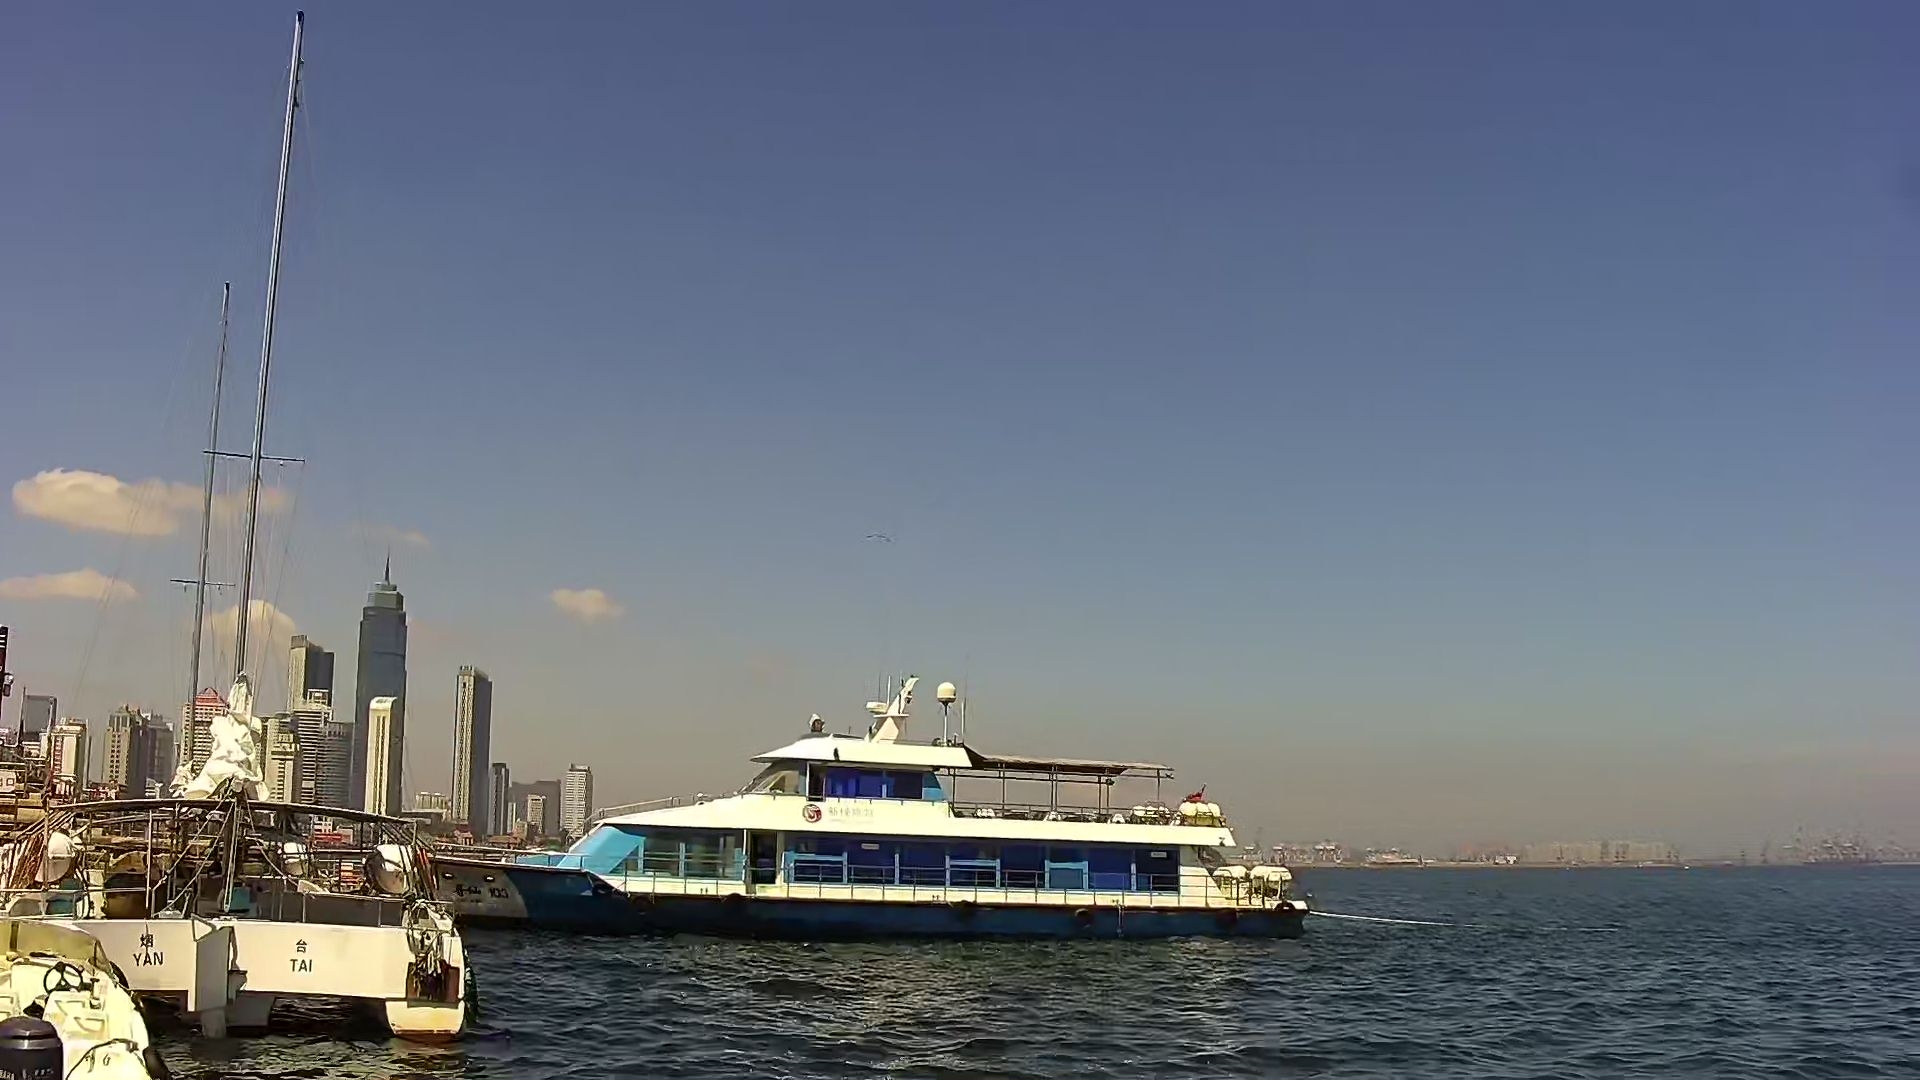boat: (7, 3, 472, 1065)
ship: (426, 671, 1312, 939)
